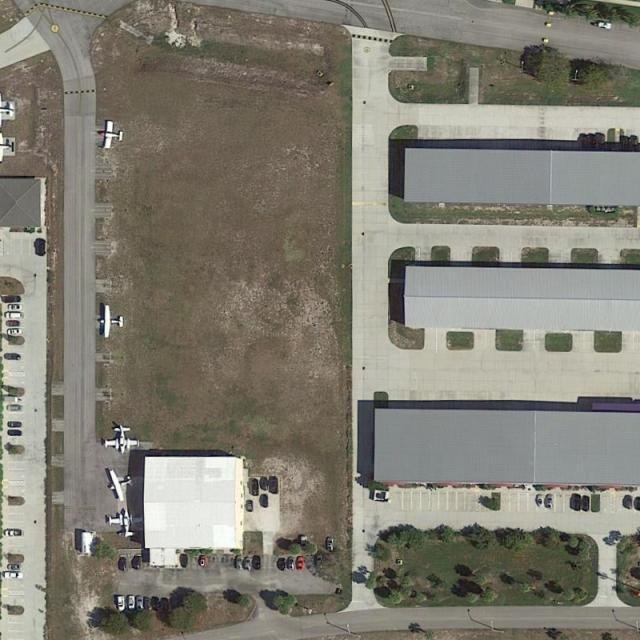vehicle: (580, 134, 591, 153), (4, 571, 26, 580), (250, 479, 260, 498), (299, 536, 310, 553), (5, 529, 25, 538), (4, 352, 22, 362), (2, 295, 22, 304), (117, 595, 126, 613), (582, 494, 591, 512), (8, 403, 24, 413), (536, 494, 546, 510), (269, 477, 278, 494), (132, 556, 142, 571), (597, 20, 612, 30), (253, 556, 262, 572), (127, 594, 136, 610), (7, 562, 23, 571), (8, 302, 24, 311), (180, 553, 189, 569), (598, 135, 606, 153), (590, 134, 598, 152), (622, 136, 630, 154), (632, 135, 640, 153), (38, 240, 46, 258), (574, 494, 582, 512), (244, 557, 253, 572), (118, 557, 127, 572), (625, 495, 634, 510), (546, 494, 555, 509), (5, 312, 24, 319), (316, 554, 324, 570), (152, 597, 161, 611), (161, 598, 170, 612), (236, 556, 244, 571), (2, 396, 19, 403), (278, 558, 287, 571), (297, 556, 305, 570), (327, 538, 335, 552), (7, 430, 23, 437), (260, 476, 268, 490), (287, 558, 296, 570), (137, 596, 144, 611), (145, 597, 152, 612), (7, 328, 22, 335), (6, 320, 21, 327), (200, 556, 209, 567), (262, 494, 269, 508), (8, 422, 24, 428), (246, 499, 254, 511), (635, 497, 640, 510)
